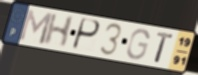3: (98, 22, 123, 58)
G: (125, 28, 151, 61)
H: (41, 13, 76, 49)
M: (18, 8, 54, 46)
P: (70, 17, 102, 52)
T: (153, 31, 175, 64)
